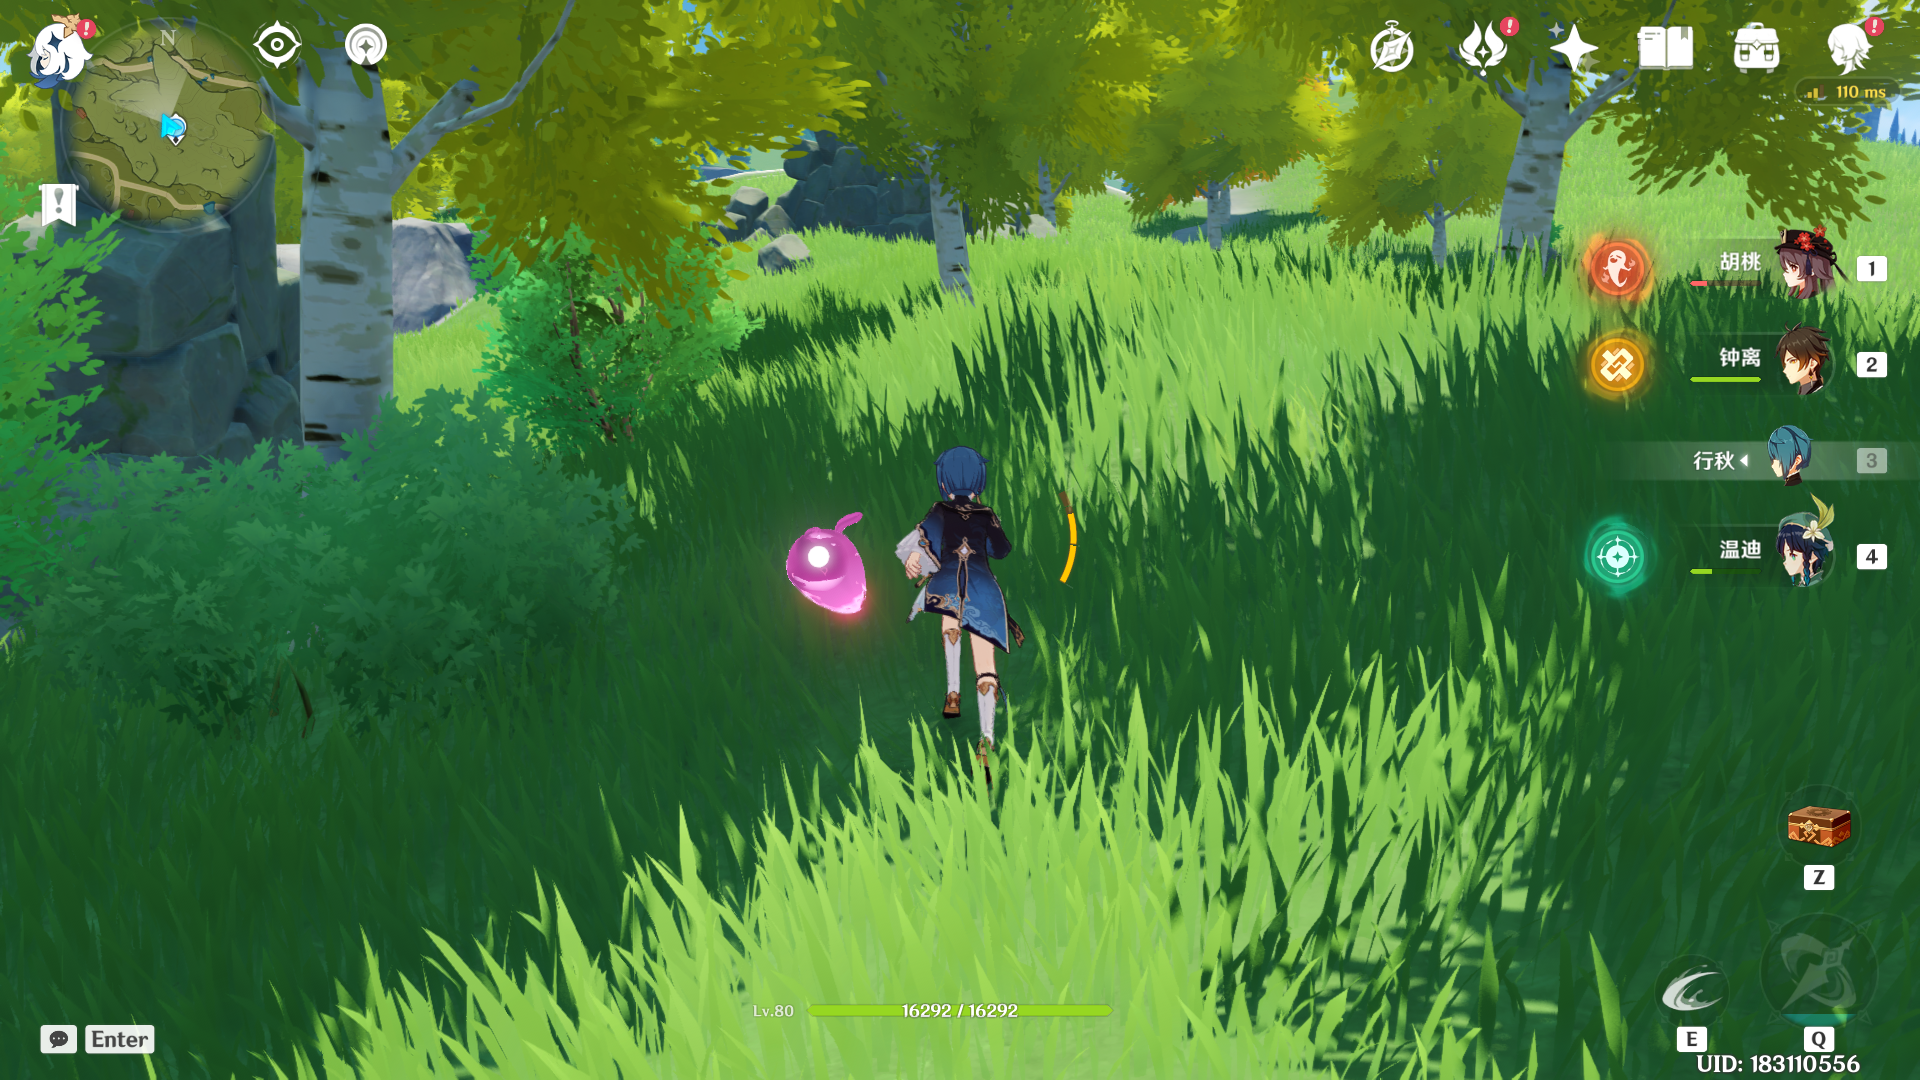character: (840, 411, 1087, 789)
